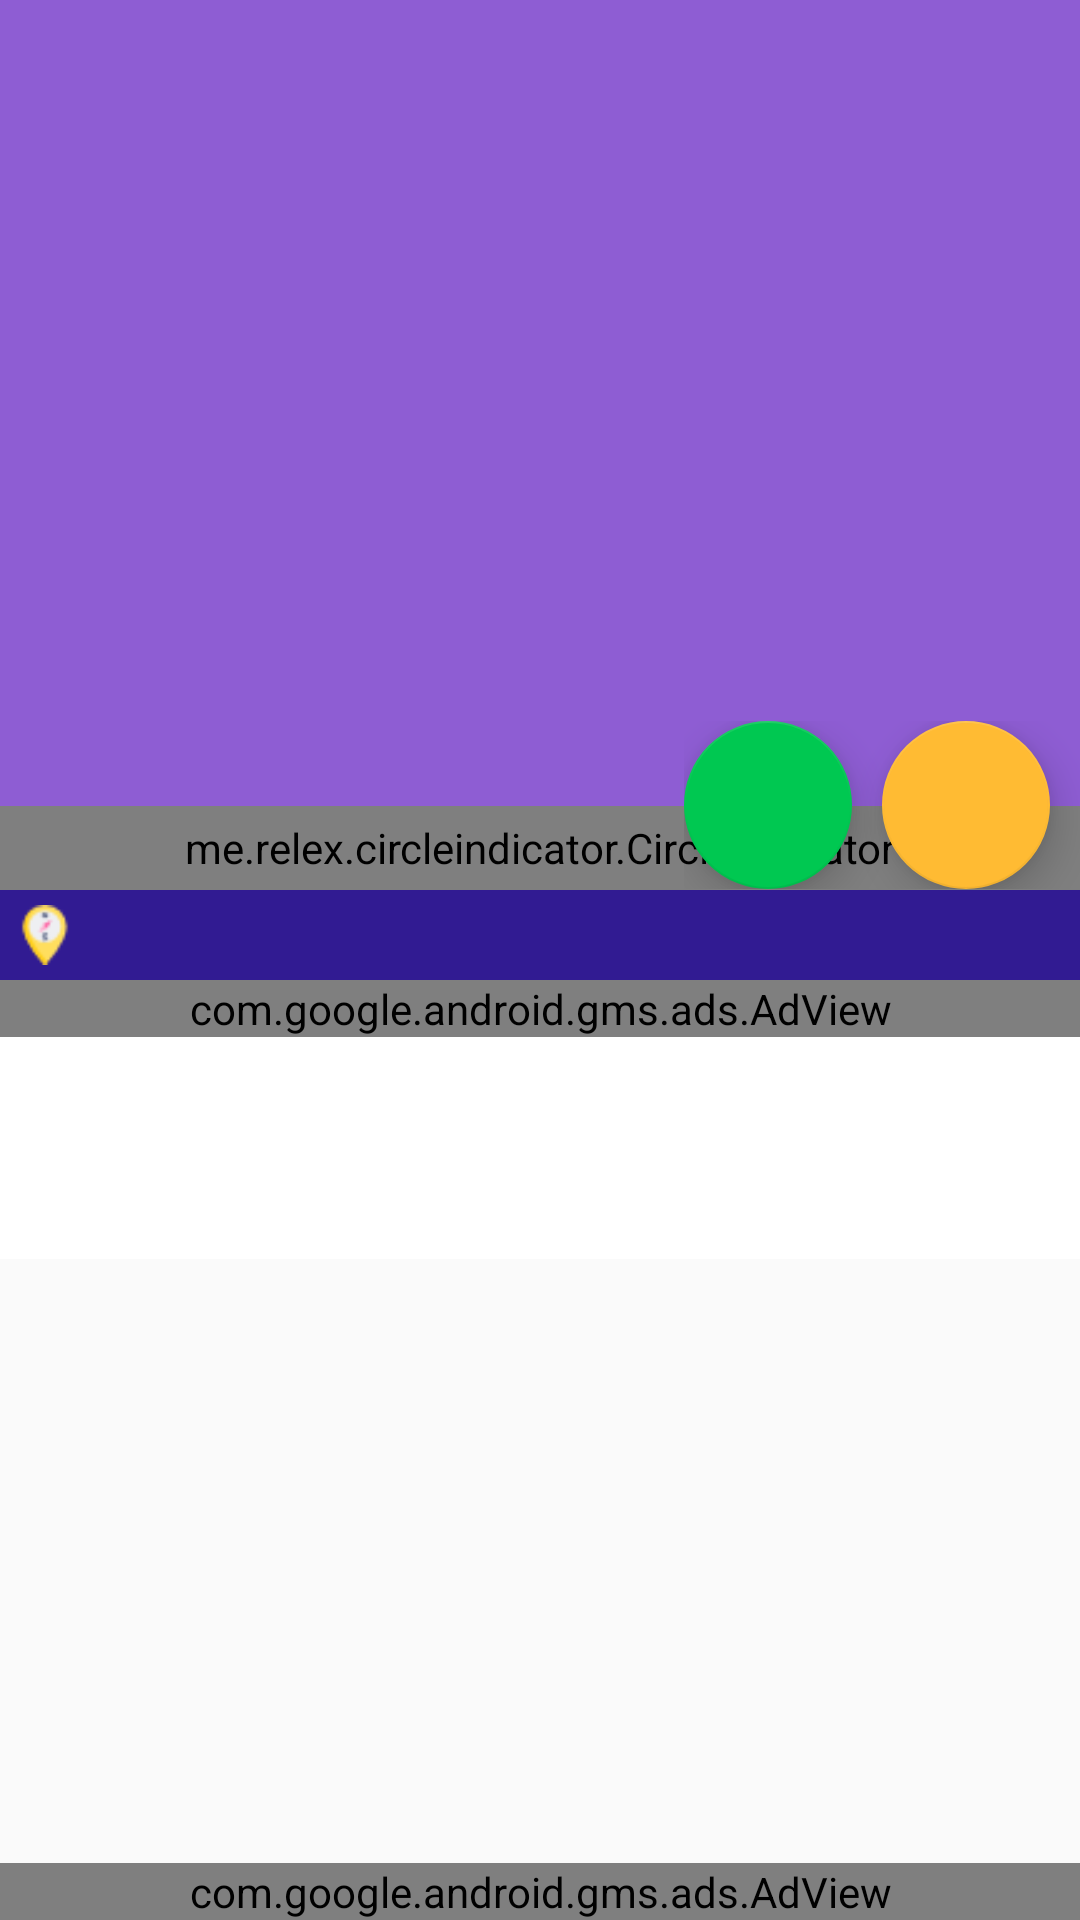

Screen size 1080×1920. Icon name, then its box in pixels as (x1, y1, x2, y2):
map position: (22, 905, 68, 965)
